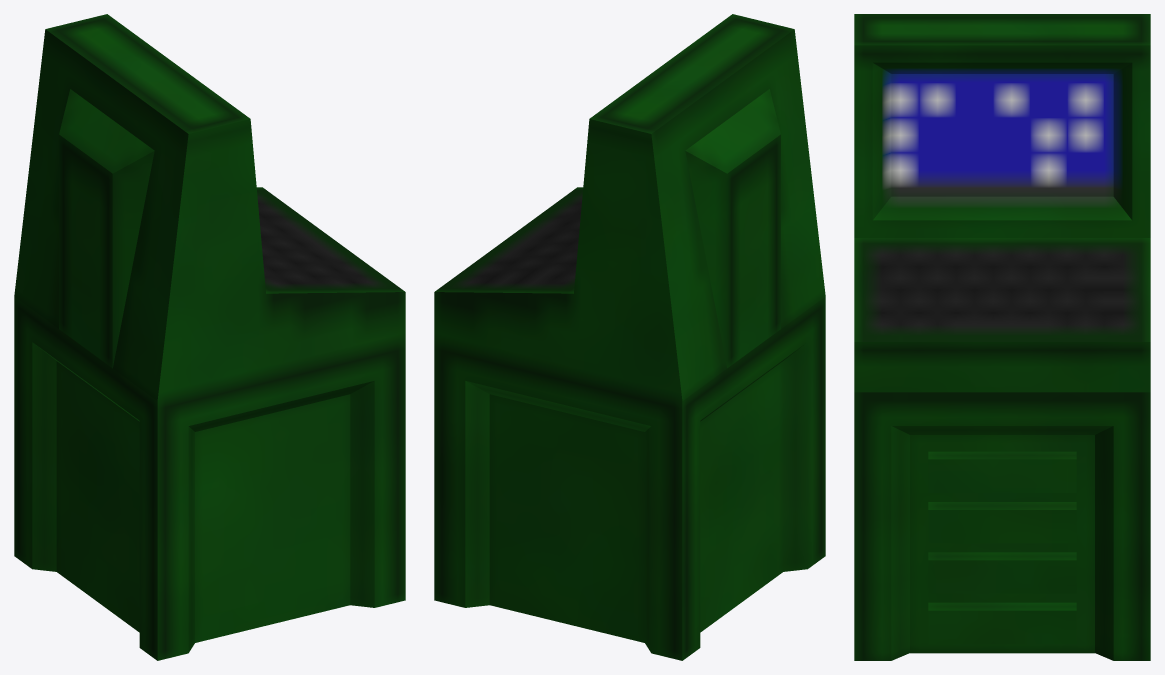
Rendered from fofStation.obj.
The picture shows the model from 3 angles, left to right: view 1: azimuth 30°, elevation 25°; view 2: azimuth 150°, elevation 25°; view 3: azimuth 270°, elevation 25°; orthographic projection. The views are drawn at different scales.
Visible parts, largest first — view 1: Group_001, Group_006, Group_007; view 2: Group_001, Group_006, Group_007; view 3: Group_006, Group_001, Group_004, Group_005, Group_003, Group_002.
Boxes of the visible parts, <box> form: Group_001: <box>14,296,405,660</box>; Group_006: <box>14,14,405,401</box>; Group_007: <box>59,89,154,368</box>; Group_001: <box>434,296,825,660</box>; Group_006: <box>434,14,825,401</box>; Group_007: <box>685,89,780,368</box>; Group_006: <box>854,14,1150,392</box>; Group_001: <box>854,392,1150,660</box>; Group_004: <box>928,602,1076,644</box>; Group_005: <box>928,502,1076,543</box>; Group_003: <box>928,552,1076,593</box>; Group_002: <box>928,451,1076,492</box>.
Size of the model in its own units: 1 by 2 by 1.
